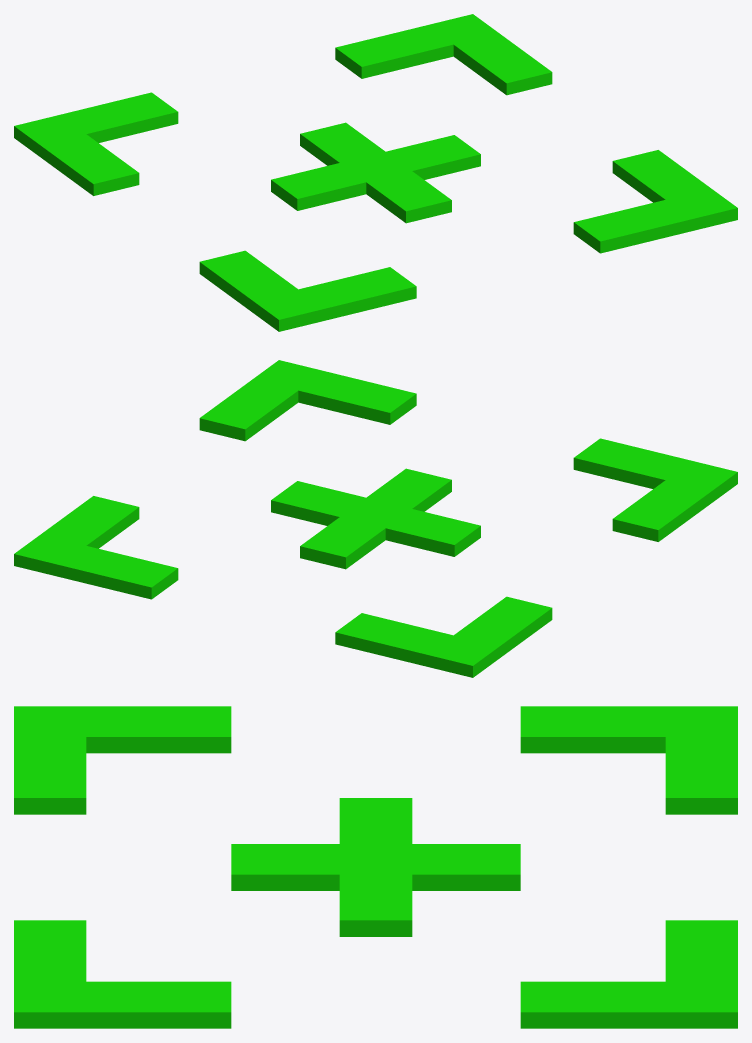
The model's file is BuildingIcon.fbx.
3 views of the same model, one above another, from view 1: azimuth 30°, elevation 25°; view 2: azimuth 150°, elevation 25°; view 3: azimuth 270°, elevation 25° (orthographic). The views are drawn at different scales.
Visible parts, largest first — view 1: core, BottomLeft, TopLeft.001, TopLeft, BottomRight; view 2: core, TopLeft, BottomRight, BottomLeft, TopLeft.001; view 3: core, TopLeft, BottomRight, BottomLeft, TopLeft.001.
Boxes of the visible parts, x1=… form: core: x1=271, y1=122, x2=480, y2=223; BottomLeft: x1=199, y1=250, x2=416, y2=331; TopLeft.001: x1=335, y1=14, x2=552, y2=95; TopLeft: x1=14, y1=92, x2=178, y2=195; BottomRight: x1=573, y1=150, x2=737, y2=253; core: x1=271, y1=468, x2=480, y2=569; TopLeft: x1=335, y1=596, x2=552, y2=677; BottomRight: x1=199, y1=360, x2=416, y2=441; BottomLeft: x1=573, y1=438, x2=737, y2=541; TopLeft.001: x1=14, y1=496, x2=178, y2=599; core: x1=231, y1=798, x2=520, y2=936; TopLeft: x1=520, y1=706, x2=737, y2=814; BottomRight: x1=14, y1=920, x2=231, y2=1028; BottomLeft: x1=14, y1=706, x2=231, y2=814; TopLeft.001: x1=520, y1=920, x2=737, y2=1028.
Size of the model in its own units: 2000 by 50 by 2000.
